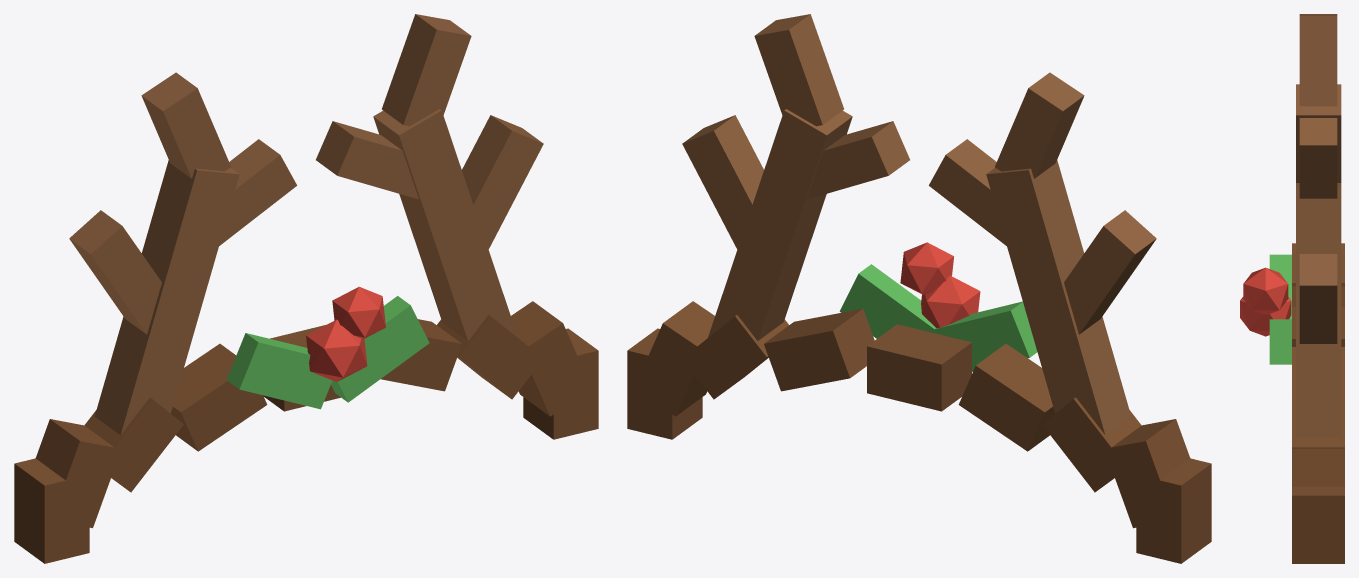
File: CatCafe_Accessory_ReindeerAntlers.glb
3 renders of one model, left to right at view 1: azimuth 30°, elevation 25°; view 2: azimuth 150°, elevation 25°; view 3: azimuth 270°, elevation 25°, orthographic. The views are drawn at different scales.
Visible parts, largest first — view 1: CatCafe_Accessory_ReindeerAntlers; view 2: CatCafe_Accessory_ReindeerAntlers; view 3: CatCafe_Accessory_ReindeerAntlers.
Boxes of the visible parts, x1,y1,x2,y2 form: CatCafe_Accessory_ReindeerAntlers: (14,14,598,563); CatCafe_Accessory_ReindeerAntlers: (627,14,1211,563); CatCafe_Accessory_ReindeerAntlers: (1240,14,1344,563).
Bounding box in the file's own units: 0.74 × 0.5545 × 0.139.
Materials: 1 (1 with a texture image).
